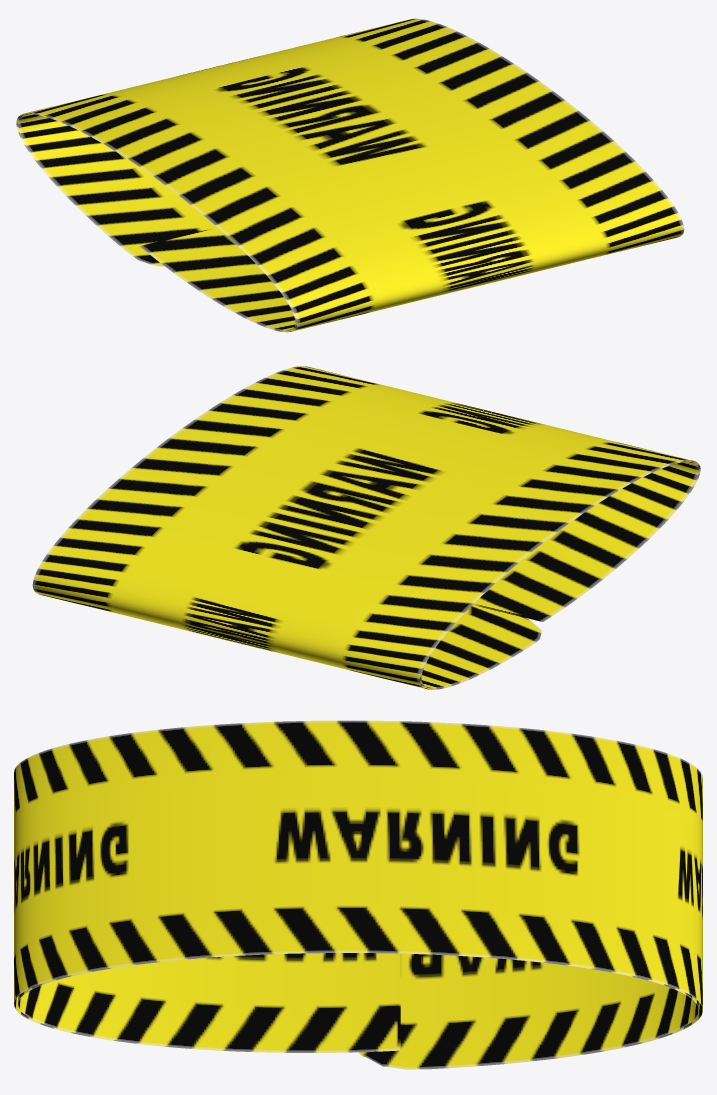
The model's file is 摺疊封鎖線.fbx.
3 views of the same model, one above another, from view 1: azimuth 30°, elevation 25°; view 2: azimuth 150°, elevation 25°; view 3: azimuth 270°, elevation 25° (orthographic). The views are drawn at different scales.
Parts seen in each view (by area): view 1: Spiral.002; view 2: Spiral.002; view 3: Spiral.002.
Boxes of the visible parts, box(x1,y1,x2,y2) form: Spiral.002: box(16, 18, 684, 332); Spiral.002: box(32, 366, 700, 689); Spiral.002: box(14, 720, 702, 1069).
Size of the model in its own units: 16 by 3.68 by 19.06.
